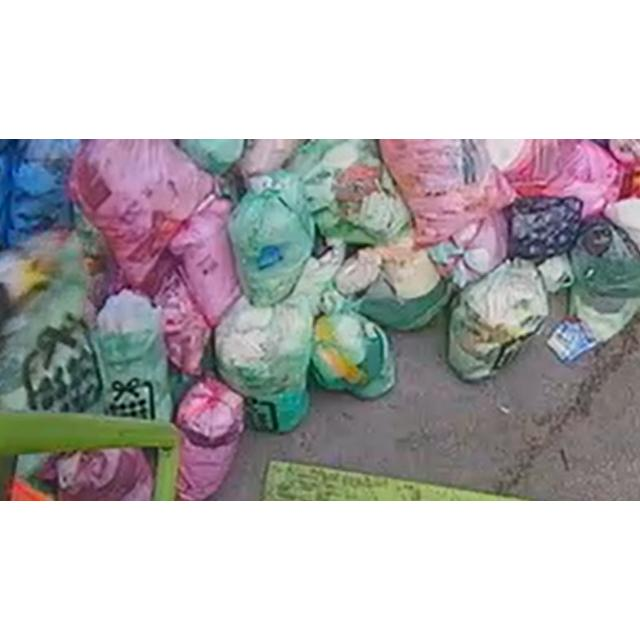general_trashbag: (0, 238, 102, 412), (215, 295, 314, 432), (449, 259, 548, 381), (229, 170, 315, 306), (95, 290, 172, 422), (311, 312, 395, 399), (570, 220, 640, 298)
other_trashbag: (69, 139, 214, 296), (380, 139, 514, 247), (486, 139, 622, 217), (169, 198, 240, 327), (429, 210, 508, 288)
